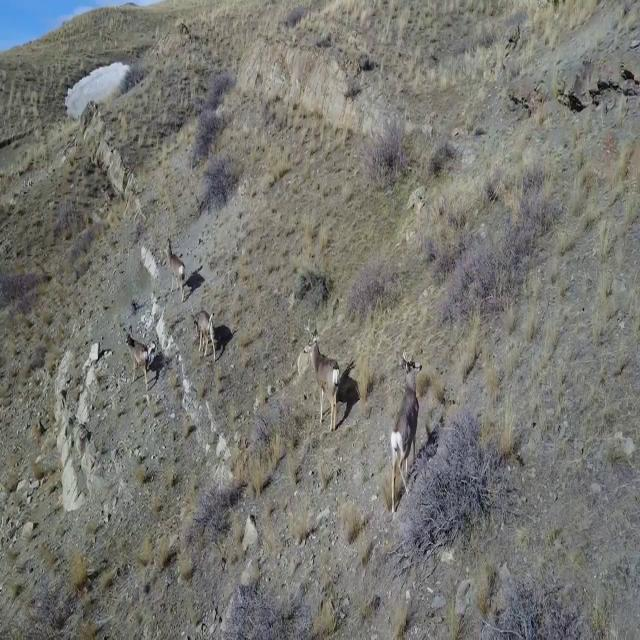Deer: (387, 351, 427, 513), (302, 318, 342, 431), (120, 320, 152, 393), (186, 307, 219, 360), (162, 237, 188, 303)
